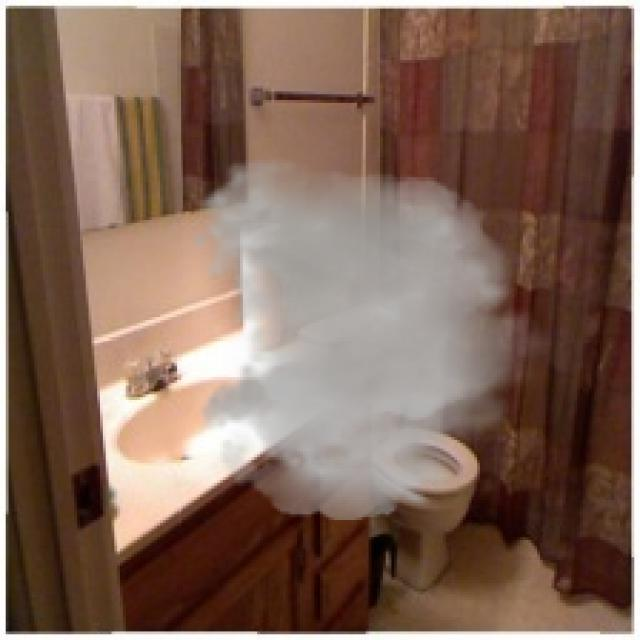Smoke: (188, 157, 560, 520)
